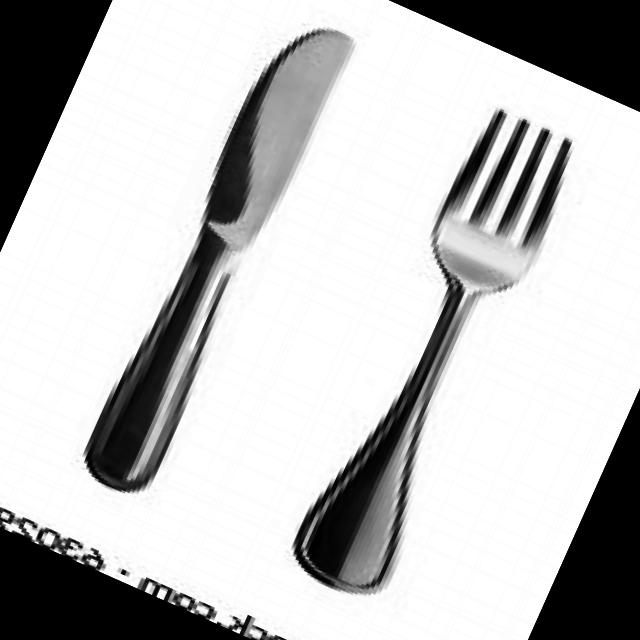fork: (278, 100, 590, 612)
